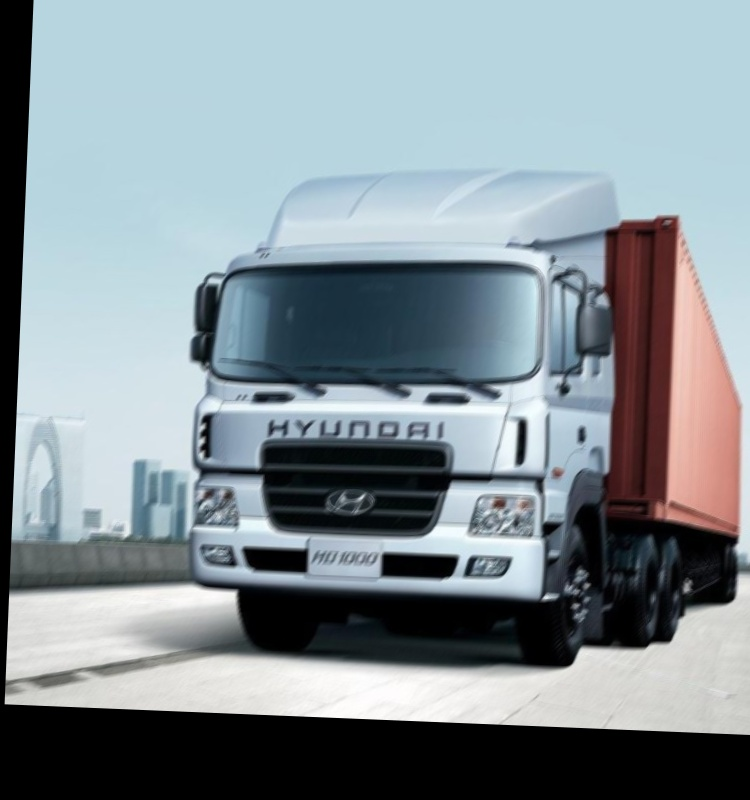truck: (184, 147, 747, 678)
